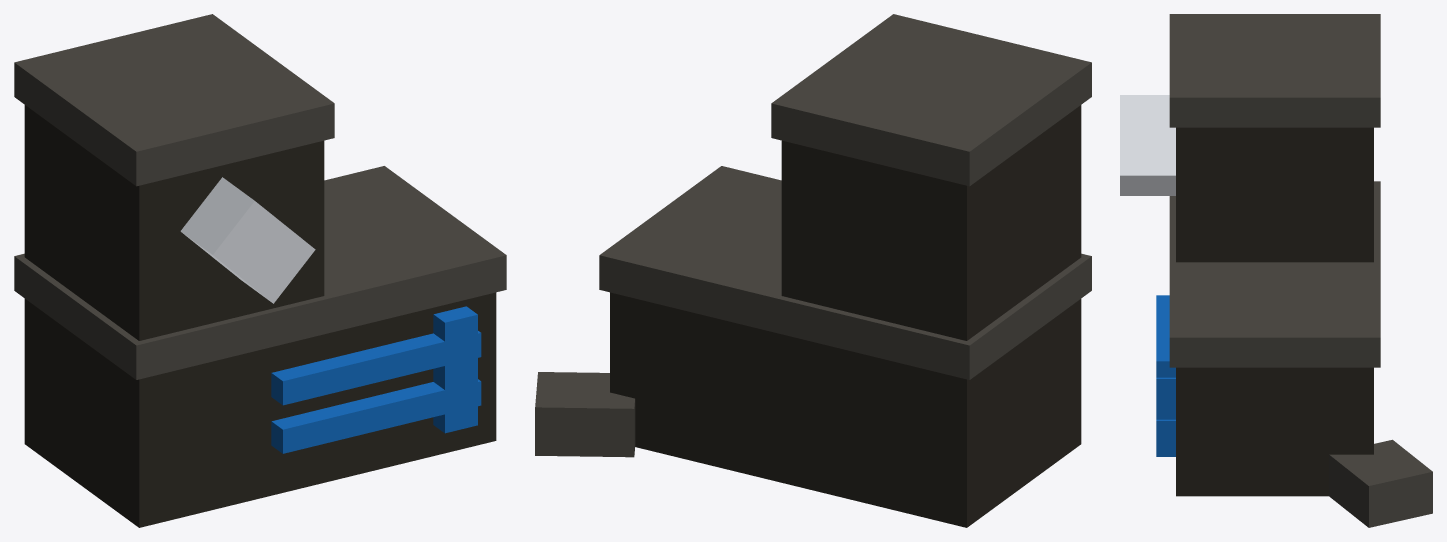
The model's file is PiedraAngular_low.fbx.
3 views of the same model, side by side, from view 1: azimuth 30°, elevation 25°; view 2: azimuth 150°, elevation 25°; view 3: azimuth 270°, elevation 25° (orthographic). The views are drawn at different scales.
Parts seen in each view (by area): view 1: PiedraAngular_low; view 2: PiedraAngular_low; view 3: PiedraAngular_low.
Part boxes in pixels (left/top/right/bottom): PiedraAngular_low: left=14, top=14, right=506, bottom=527; PiedraAngular_low: left=535, top=14, right=1091, bottom=527; PiedraAngular_low: left=1120, top=14, right=1432, bottom=527.
Bounding box in the file's own units: 66.32 × 55 × 47.41.
